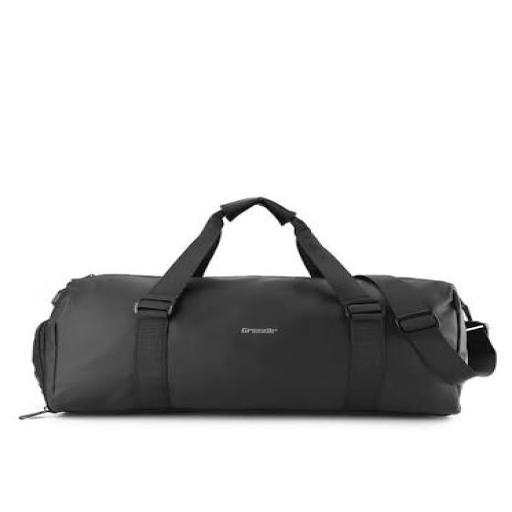tas ransel: (35, 193, 498, 423)
